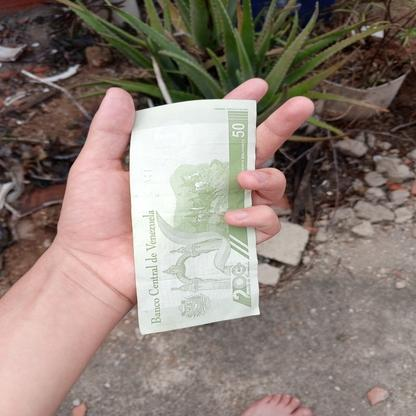fifty-back-vef: (129, 99, 261, 335)
